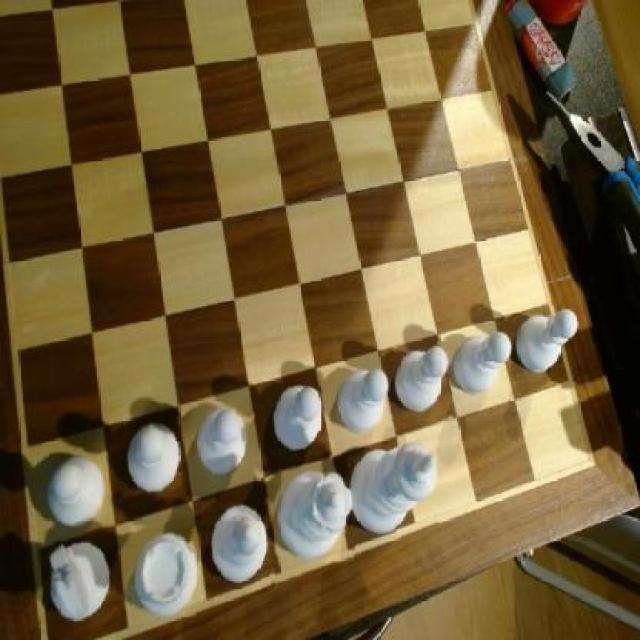black-rook: (208, 498, 274, 591)
white-bishop: (351, 444, 440, 538)
white-king: (50, 538, 114, 627)
white-knight: (517, 301, 580, 387), (126, 417, 187, 497), (49, 454, 109, 534), (394, 343, 451, 427), (454, 326, 512, 407), (194, 402, 251, 482), (270, 383, 326, 459), (335, 368, 387, 432)
white-pawn: (276, 463, 358, 562)
white-queen: (134, 528, 201, 617)
